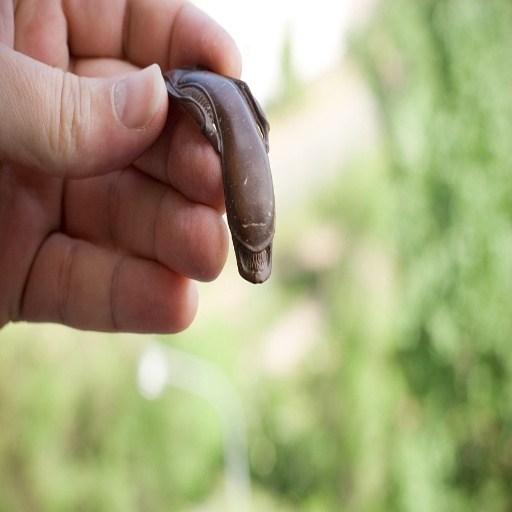hand: (0, 18, 264, 356)
